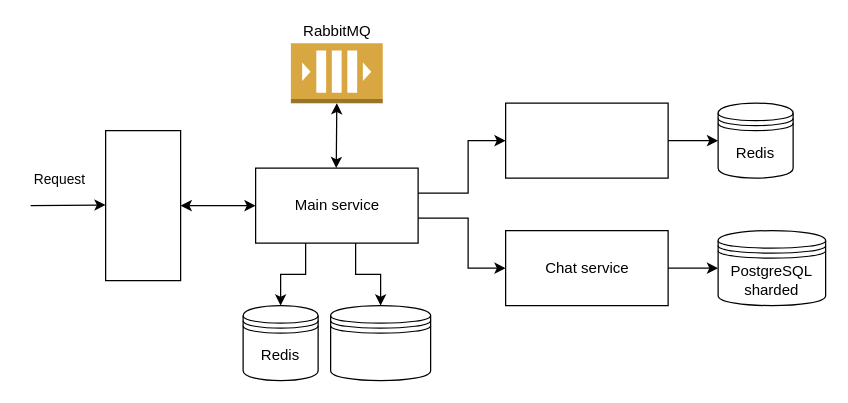
The diagram is 848 pixels wide and 403 high, and some of its shapes have lost their labels. The shapes that lost their labels are listed below. From the top down, each one's centre as x and y in pixels, then its label:
the point at 586,140: Counter service
the point at 142,205: Nginx
the point at 380,342: PostgreSQL replicated
